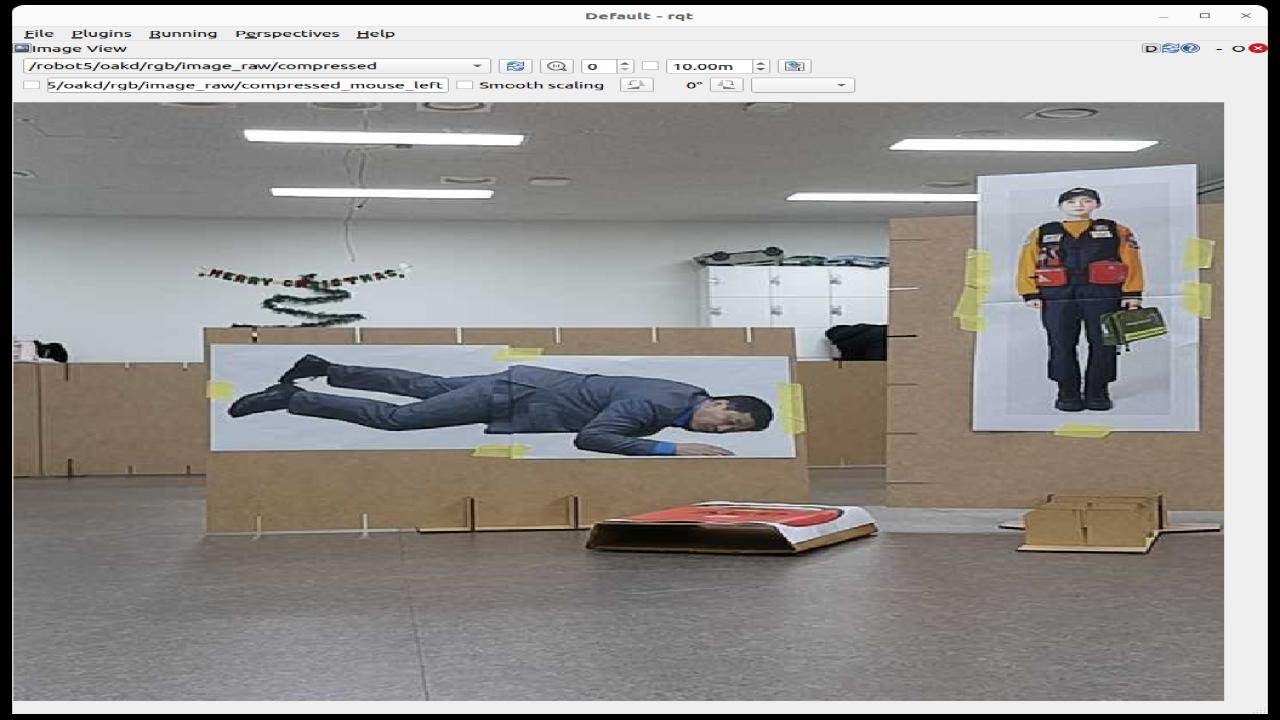AED: (624, 503, 838, 526)
Patient: (228, 355, 772, 455)
Responder: (1017, 188, 1144, 411)
